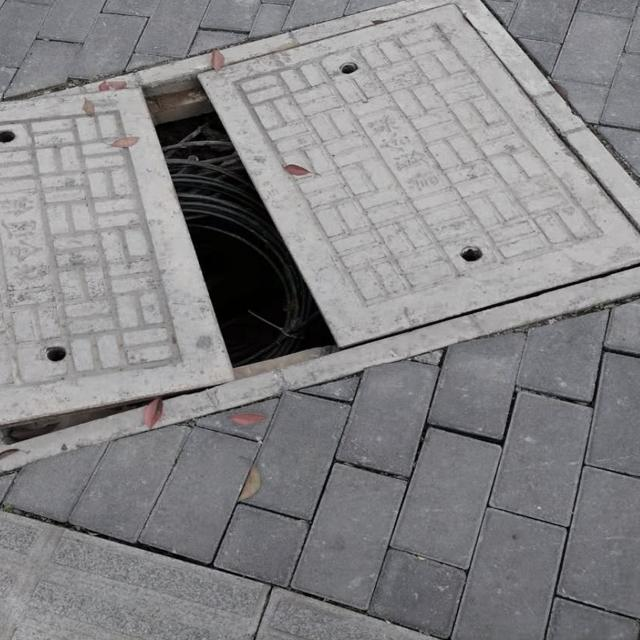uncovered: (0, 0, 640, 483)
